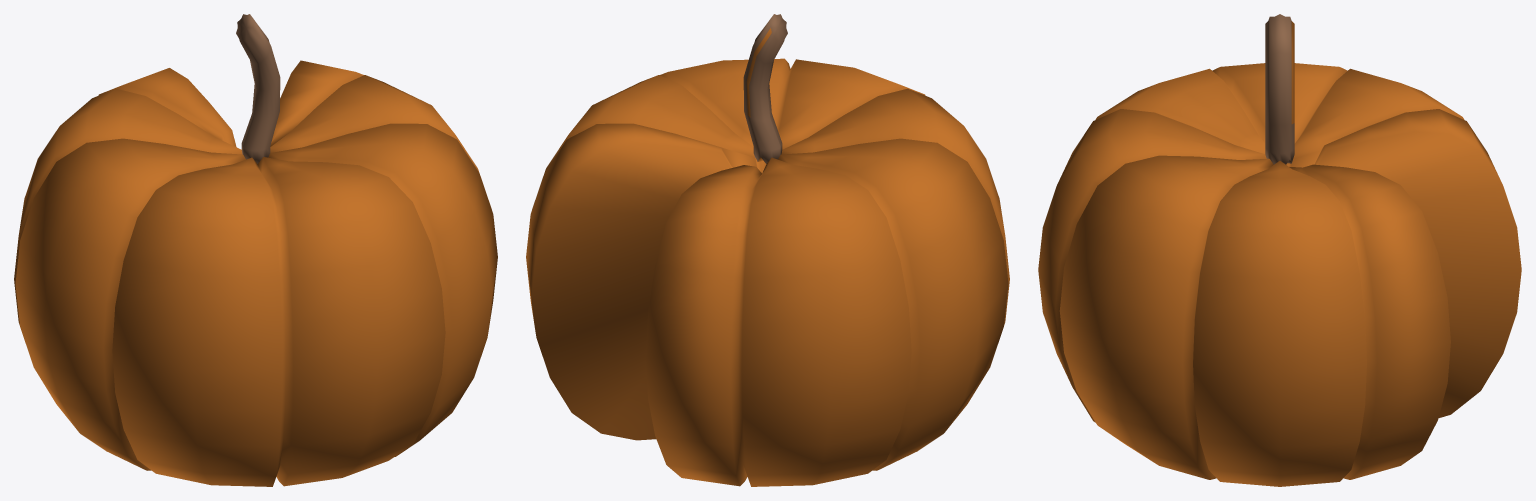
File: knifed_pumpkin.fbx
3 views of the same model, side by side, from view 1: azimuth 30°, elevation 25°; view 2: azimuth 150°, elevation 25°; view 3: azimuth 270°, elevation 25° (orthographic).
Visible parts, largest first — view 1: Pumpkin.001; view 2: Pumpkin.001; view 3: Pumpkin.001.
Part boxes in pixels (bbox=[...]): Pumpkin.001: bbox=[14, 14, 497, 486]; Pumpkin.001: bbox=[526, 14, 1009, 486]; Pumpkin.001: bbox=[1038, 14, 1521, 486].
Size of the model in its own units: 6658 by 6236 by 6658.
